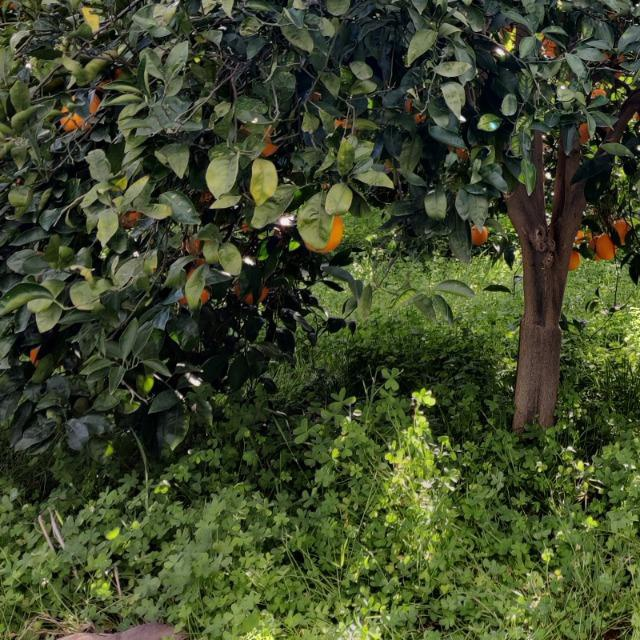orange: (58, 91, 102, 131), (302, 213, 344, 253), (177, 258, 211, 304), (238, 121, 280, 155), (234, 277, 270, 303), (610, 218, 632, 246), (596, 231, 618, 259), (406, 96, 426, 124), (116, 209, 144, 227), (184, 233, 210, 251), (539, 37, 557, 61), (470, 224, 488, 244), (589, 237, 603, 261), (448, 144, 468, 160), (28, 346, 44, 366), (566, 249, 580, 269), (578, 121, 590, 143), (574, 228, 592, 242), (590, 89, 608, 97)
